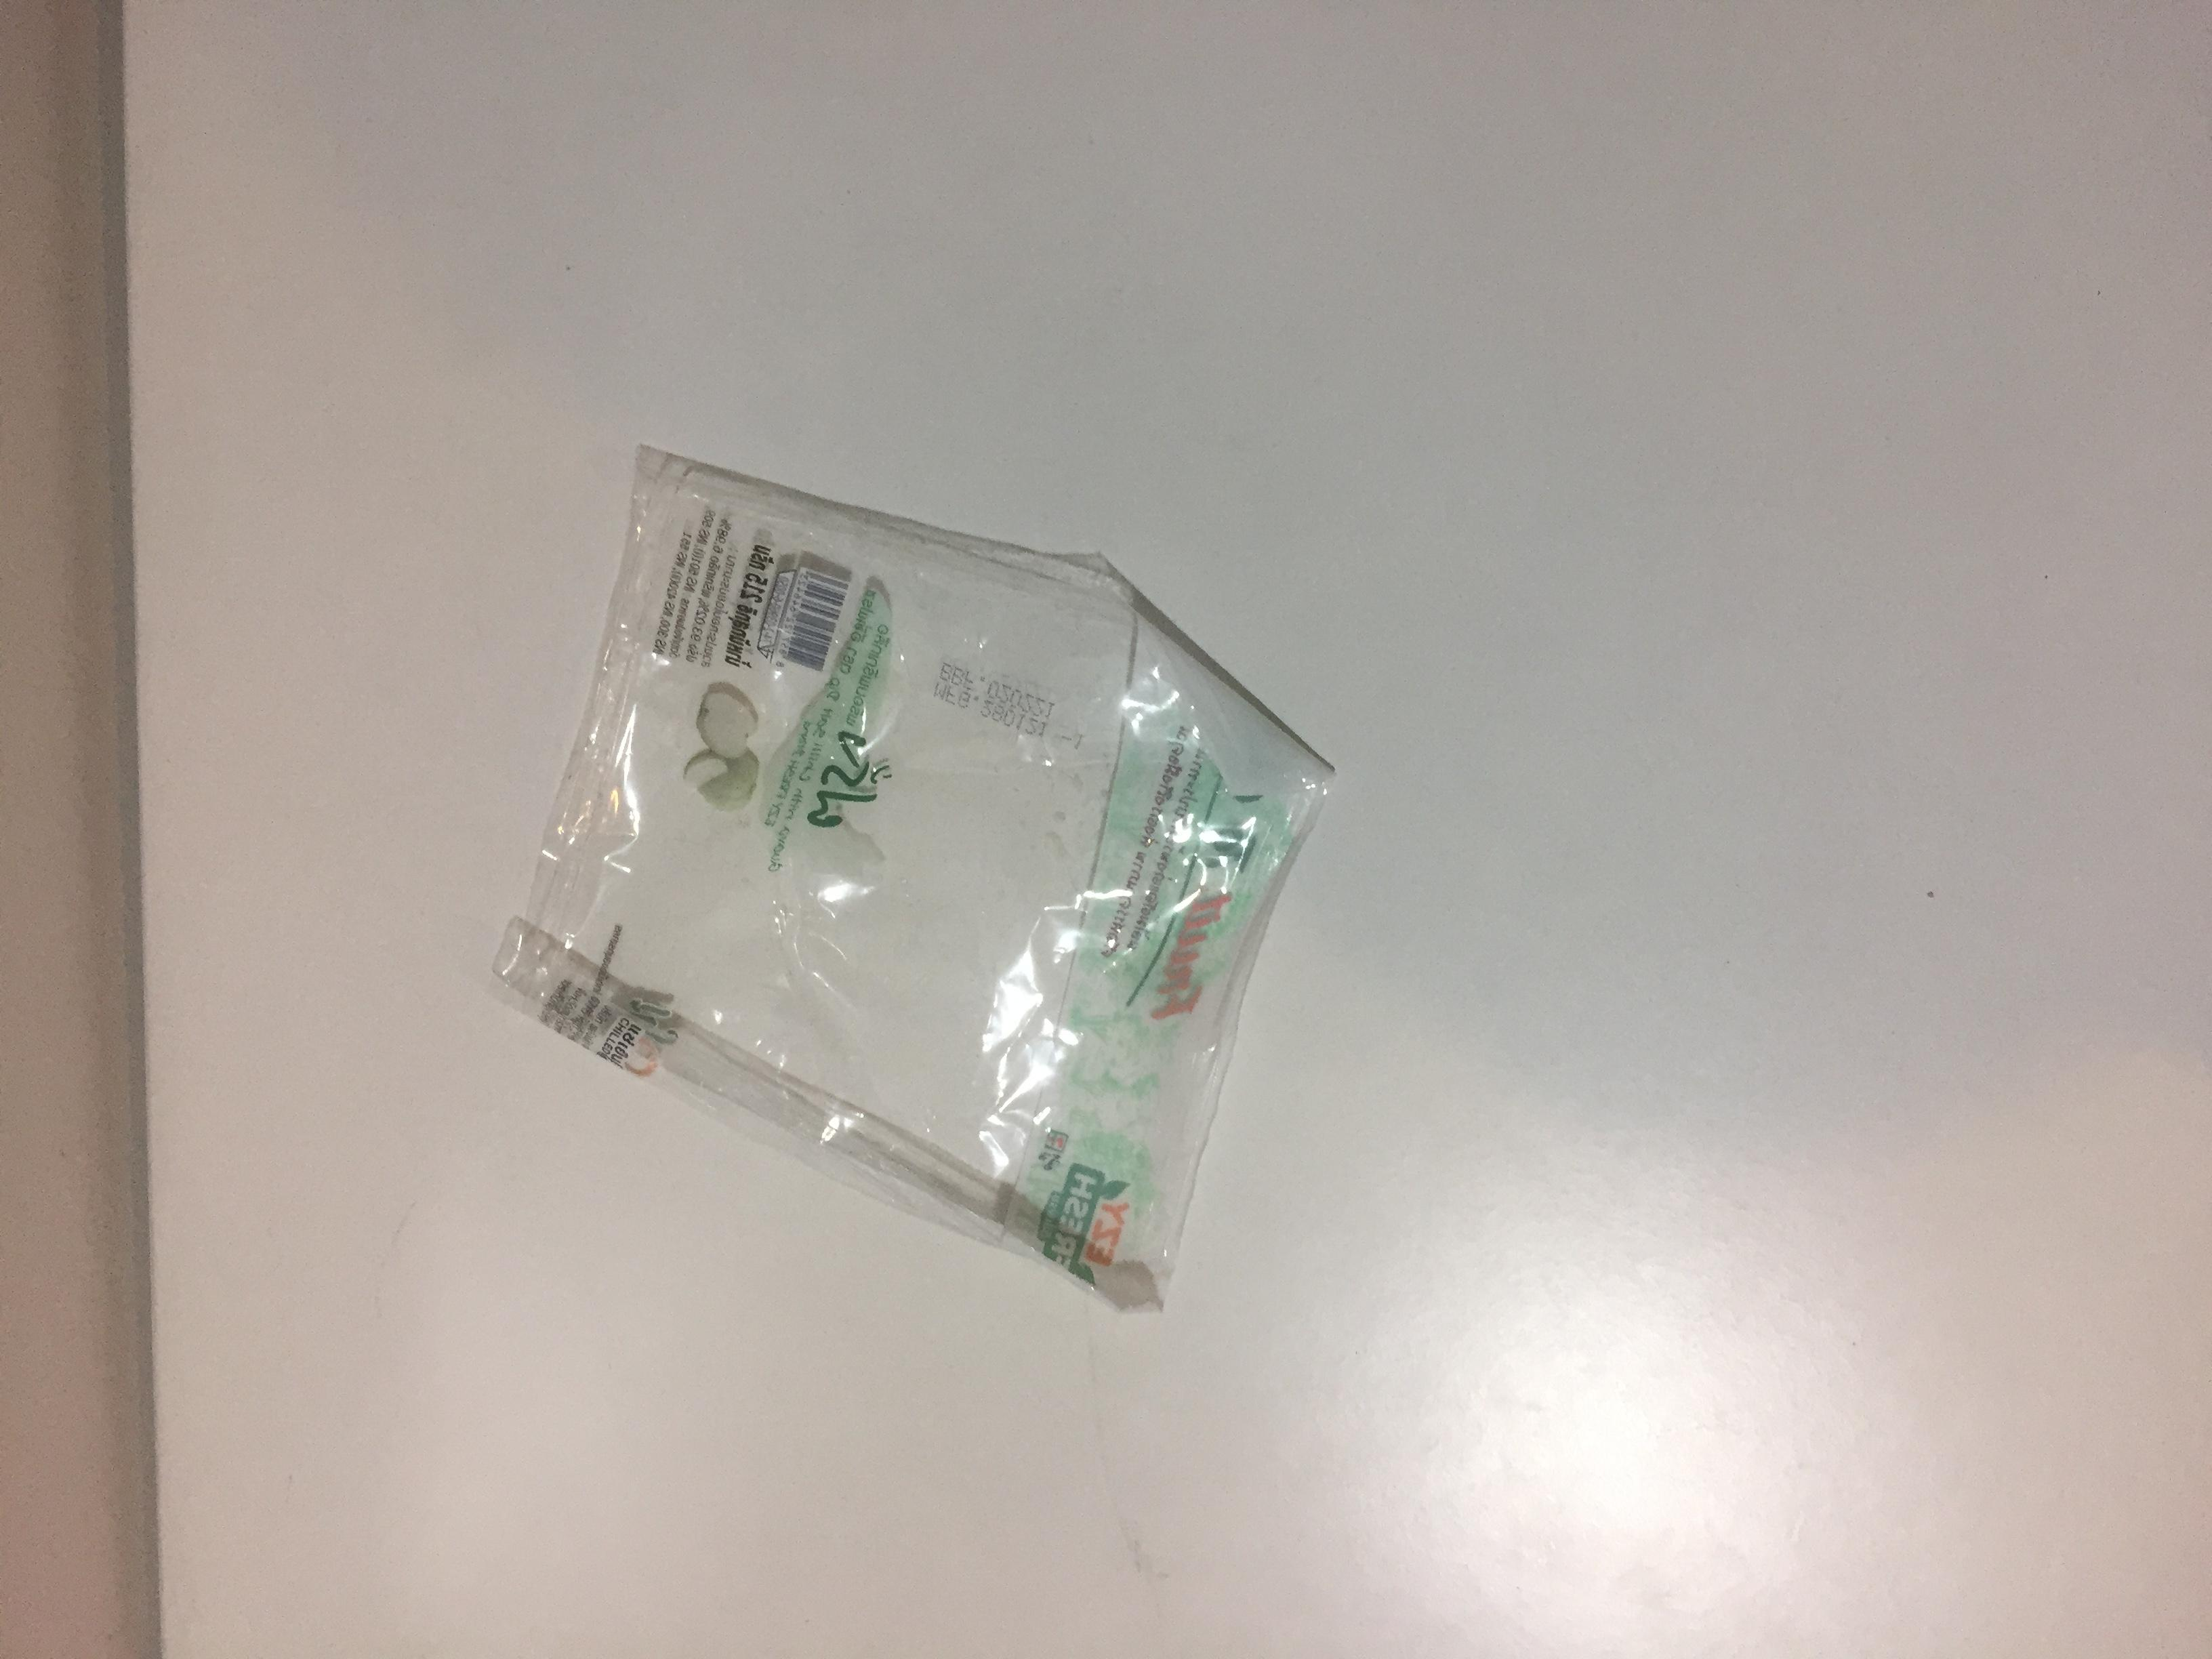plastic: (421, 361, 1663, 1042)
